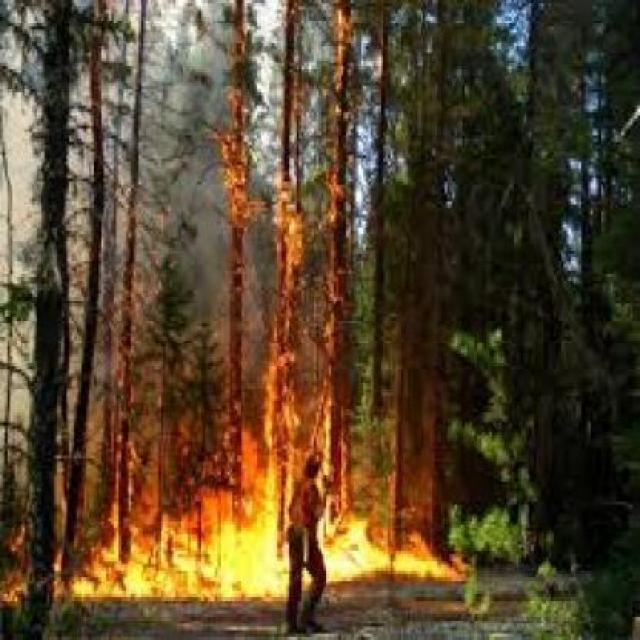Fire: (18, 264, 500, 629)
